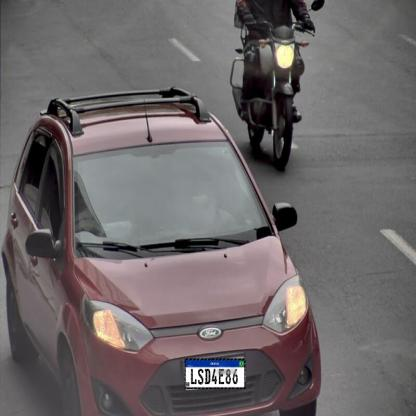PlacaM: (184, 358, 246, 389)
